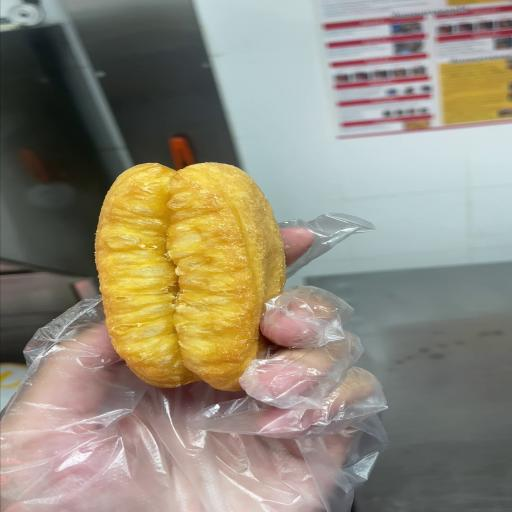brand_golden_good: (95, 163, 284, 390)
